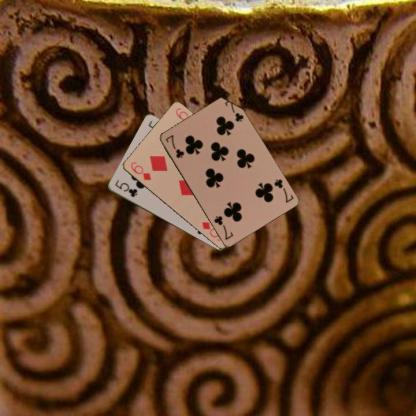5c: (112, 178, 138, 198)
6d: (128, 160, 152, 182)
7c: (271, 176, 295, 204), (163, 132, 185, 160)
